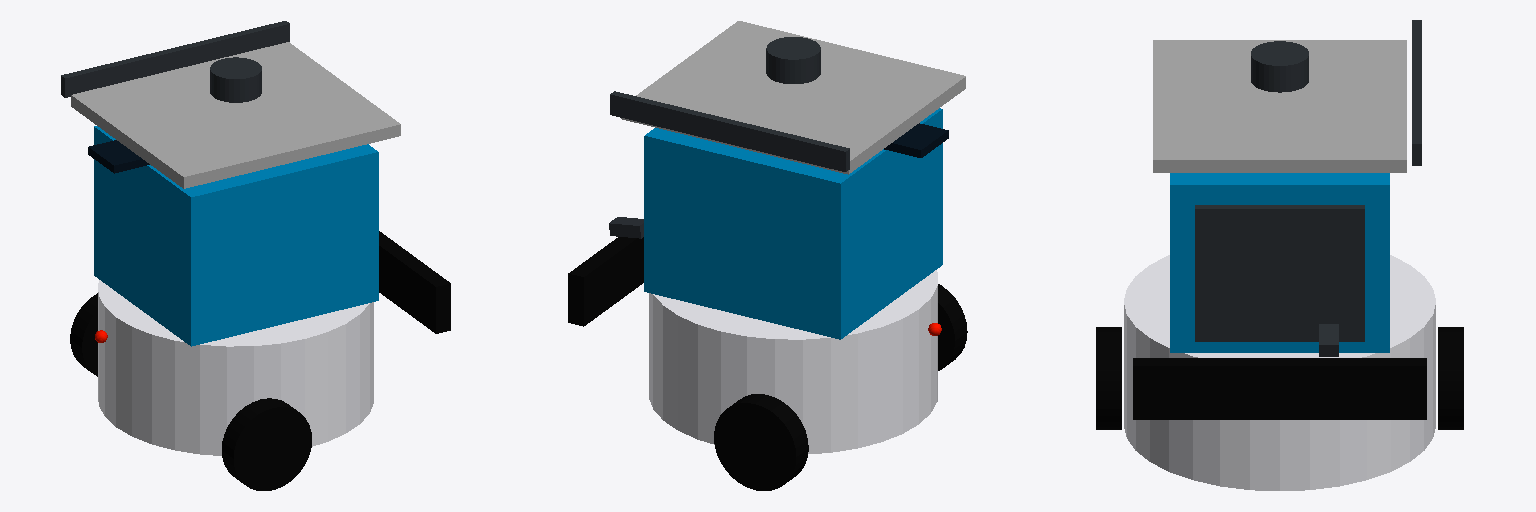
robot.urdf — hospital_logistics_robot:
<?xml version="1.0"?>
<robot name="hospital_logistics_robot">

  <!-- ==================== MATERIALES ==================== -->
  <material name="White">
    <color rgba="0.95 0.95 0.97 1.0"/>
  </material>
  <material name="BlueMedical">
    <color rgba="0.0 0.55 0.77 1.0"/>
  </material>
  <material name="DarkMetal">
    <color rgba="0.2 0.22 0.24 1.0"/>
  </material>
  <material name="BlackRubber">
    <color rgba="0.05 0.05 0.05 1.0"/>
  </material>
  <material name="LightGrey">
    <color rgba="0.7 0.7 0.7 1.0"/>
  </material>
  <material name="Screen">
    <color rgba="0.05 0.1 0.15 1.0"/>
  </material>
  <material name="LED_Green">
    <color rgba="0.0 0.9 0.1 1.0"/>
  </material>
  <material name="LED_Red">
    <color rgba="1.0 0.1 0.0 1.0"/>
  </material>

  <!-- ==================== BASE FOOTPRINT ==================== -->
  <link name="base_footprint"/>

  <!-- ==================== CHASIS PRINCIPAL ==================== -->
  <link name="base_link">
    <visual>
      <geometry>
        <cylinder radius="0.32" length="0.28"/>
      </geometry>
      <origin xyz="0 0 0" rpy="0 0 0"/>
      <material name="White"/>
    </visual>
    <collision>
      <geometry>
        <cylinder radius="0.32" length="0.28"/>
      </geometry>
      <origin xyz="0 0 0" rpy="0 0 0"/>
    </collision>
    <inertial>
      <mass value="20.0"/>
      <origin xyz="0 0 0" rpy="0 0 0"/>
      <inertia ixx="0.8" ixy="0" ixz="0" iyy="0.8" iyz="0" izz="0.8"/>
    </inertial>
  </link>

  <joint name="base_joint" type="fixed">
    <parent link="base_footprint"/>
    <child link="base_link"/>
    <origin xyz="0 0 0.14" rpy="0 0 0"/>
  </joint>

  <!-- ==================== COMPARTIMENTO DE CARGA ==================== -->
  <link name="cargo_box">
    <visual>
      <geometry>
        <box size="0.5 0.45 0.38"/>
      </geometry>
      <origin xyz="0 0 0.33" rpy="0 0 0"/>
      <material name="BlueMedical"/>
    </visual>
    <collision>
      <geometry>
        <box size="0.5 0.45 0.38"/>
      </geometry>
      <origin xyz="0 0 0.33" rpy="0 0 0"/>
    </collision>
    <inertial>
      <mass value="5.0"/>
      <origin xyz="0 0 0.33" rpy="0 0 0"/>
      <inertia ixx="0.2" ixy="0" ixz="0" iyy="0.2" iyz="0" izz="0.2"/>
    </inertial>
  </link>

  <joint name="cargo_joint" type="fixed">
    <parent link="base_link"/>
    <child link="cargo_box"/>
    <origin xyz="0 0 0" rpy="0 0 0"/>
  </joint>

  <!-- Detalle de puerta (línea vertical simulada con una caja fina) -->
  <link name="door_line">
    <visual>
      <geometry>
        <box size="0.02 0.35 0.30"/>
      </geometry>
      <origin xyz="0.27 0 0.33" rpy="0 0 0"/>
      <material name="DarkMetal"/>
    </visual>
  </link>
  <joint name="door_joint" type="fixed">
    <parent link="cargo_box"/>
    <child link="door_line"/>
    <origin xyz="0 0 0" rpy="0 0 0"/>
  </joint>

  <!-- ==================== BANDEJA SUPERIOR (estante) ==================== -->
  <link name="top_shelf">
    <visual>
      <geometry>
        <box size="0.58 0.52 0.03"/>
      </geometry>
      <origin xyz="0 0 0.58" rpy="0 0 0"/>
      <material name="LightGrey"/>
    </visual>
    <collision>
      <geometry>
        <box size="0.58 0.52 0.03"/>
      </geometry>
      <origin xyz="0 0 0.58" rpy="0 0 0"/>
    </collision>
    <inertial>
      <mass value="1.5"/>
      <origin xyz="0 0 0.58" rpy="0 0 0"/>
      <inertia ixx="0.05" ixy="0" ixz="0" iyy="0.05" iyz="0" izz="0.05"/>
    </inertial>
  </link>

  <joint name="shelf_joint" type="fixed">
    <parent link="base_link"/>
    <child link="top_shelf"/>
    <origin xyz="0 0 0" rpy="0 0 0"/>
  </joint>

  <!-- Barandas alrededor de la bandeja -->
  <link name="railing">
    <visual>
      <geometry>
        <box size="0.60 0.02 0.05"/>
      </geometry>
      <origin xyz="0 0.28 0.61" rpy="0 0 0"/>
      <material name="DarkMetal"/>
    </visual>
  </link>
  <joint name="railing_joint" type="fixed">
    <parent link="top_shelf"/>
    <child link="railing"/>
    <origin xyz="0 0 0" rpy="0 0 0"/>
  </joint>

  <!-- ==================== SENSOR LIDAR ==================== -->
  <link name="lidar">
    <visual>
      <geometry>
        <cylinder radius="0.06" length="0.06"/>
      </geometry>
      <origin xyz="0 0 0.67" rpy="0 0 0"/>
      <material name="DarkMetal"/>
    </visual>
    <collision>
      <geometry>
        <cylinder radius="0.06" length="0.06"/>
      </geometry>
      <origin xyz="0 0 0.67" rpy="0 0 0"/>
    </collision>
    <inertial>
      <mass value="0.2"/>
      <origin xyz="0 0 0.67" rpy="0 0 0"/>
      <inertia ixx="0.0001" ixy="0" ixz="0" iyy="0.0001" iyz="0" izz="0.0001"/>
    </inertial>
  </link>
  <joint name="lidar_joint" type="fixed">
    <parent link="base_link"/>
    <child link="lidar"/>
    <origin xyz="0 0 0" rpy="0 0 0"/>
  </joint>

  <!-- ==================== CÁMARA FRONTAL ==================== -->
  <link name="camera_front">
    <visual>
      <geometry>
        <box size="0.08 0.04 0.03"/>
      </geometry>
      <origin xyz="0.36 0.1 0.22" rpy="0 0.15 0"/>
      <material name="DarkMetal"/>
    </visual>
    <collision>
      <geometry>
        <box size="0.08 0.04 0.03"/>
      </geometry>
      <origin xyz="0.36 0.1 0.22" rpy="0 0.15 0"/>
    </collision>
    <inertial>
      <mass value="0.05"/>
      <origin xyz="0.36 0.1 0.22" rpy="0 0.15 0"/>
      <inertia ixx="0.00001" ixy="0" ixz="0" iyy="0.00001" iyz="0" izz="0.00001"/>
    </inertial>
  </link>
  <joint name="camera_joint" type="fixed">
    <parent link="base_link"/>
    <child link="camera_front"/>
    <origin xyz="0 0 0" rpy="0 0 0"/>
  </joint>

  <!-- ==================== PANEL TÁCTIL TRASERO ==================== -->
  <link name="touch_panel">
    <visual>
      <geometry>
        <box size="0.16 0.12 0.02"/>
      </geometry>
      <origin xyz="-0.28 0 0.55" rpy="0 0 0"/>
      <material name="Screen"/>
    </visual>
    <collision>
      <geometry>
        <box size="0.16 0.12 0.02"/>
      </geometry>
      <origin xyz="-0.28 0 0.55" rpy="0 0 0"/>
    </collision>
    <inertial>
      <mass value="0.2"/>
      <origin xyz="-0.28 0 0.55" rpy="0 0 0"/>
      <inertia ixx="0.0001" ixy="0" ixz="0" iyy="0.0001" iyz="0" izz="0.0001"/>
    </inertial>
  </link>
  <joint name="panel_joint" type="fixed">
    <parent link="base_link"/>
    <child link="touch_panel"/>
    <origin xyz="0 0 0" rpy="0 0 0"/>
  </joint>

  <!-- ==================== LEDS DE ESTADO ==================== -->
  <!-- LED frontal verde -->
  <link name="led_front">
    <visual>
      <geometry>
        <sphere radius="0.015"/>
      </geometry>
      <origin xyz="0.36 0 0.1" rpy="0 0 0"/>
      <material name="LED_Green"/>
    </visual>
  </link>
  <joint name="led_front_joint" type="fixed">
    <parent link="base_link"/>
    <child link="led_front"/>
    <origin xyz="0 0 0" rpy="0 0 0"/>
  </joint>

  <!-- LED trasero rojo -->
  <link name="led_rear">
    <visual>
      <geometry>
        <sphere radius="0.015"/>
      </geometry>
      <origin xyz="-0.36 0 0.1" rpy="0 0 0"/>
      <material name="LED_Red"/>
    </visual>
  </link>
  <joint name="led_rear_joint" type="fixed">
    <parent link="base_link"/>
    <child link="led_rear"/>
    <origin xyz="0 0 0" rpy="0 0 0"/>
  </joint>

  <!-- ==================== RUEDAS (orientación corregida) ==================== -->
  <!-- Rueda derecha -->
  <link name="wheel_right">
    <visual>
      <geometry>
        <cylinder radius="0.105" length="0.055"/>
      </geometry>
      <!-- Rotación para que el cilindro gire sobre el eje Y (rueda en horizontal) -->
      <origin xyz="0 0 0" rpy="1.5708 0 0"/>
      <material name="BlackRubber"/>
    </visual>
    <collision>
      <geometry>
        <cylinder radius="0.105" length="0.055"/>
      </geometry>
      <origin xyz="0 0 0" rpy="1.5708 0 0"/>
    </collision>
    <inertial>
      <mass value="1.5"/>
      <origin xyz="0 0 0" rpy="0 0 0"/>
      <inertia ixx="0.01" ixy="0" ixz="0" iyy="0.01" iyz="0" izz="0.02"/>
    </inertial>
  </link>

  <joint name="wheel_right_joint" type="continuous">
    <parent link="base_link"/>
    <child link="wheel_right"/>
    <origin xyz="-0.12 -0.35 -0.09" rpy="0 0 0"/>
    <axis xyz="0 1 0"/>
  </joint>

  <!-- Rueda izquierda -->
  <link name="wheel_left">
    <visual>
      <geometry>
        <cylinder radius="0.105" length="0.055"/>
      </geometry>
      <origin xyz="0 0 0" rpy="1.5708 0 0"/>
      <material name="BlackRubber"/>
    </visual>
    <collision>
      <geometry>
        <cylinder radius="0.105" length="0.055"/>
      </geometry>
      <origin xyz="0 0 0" rpy="1.5708 0 0"/>
    </collision>
    <inertial>
      <mass value="1.5"/>
      <origin xyz="0 0 0" rpy="0 0 0"/>
      <inertia ixx="0.01" ixy="0" ixz="0" iyy="0.01" iyz="0" izz="0.02"/>
    </inertial>
  </link>

  <joint name="wheel_left_joint" type="continuous">
    <parent link="base_link"/>
    <child link="wheel_left"/>
    <origin xyz="-0.12 0.35 -0.09" rpy="0 0 0"/>
    <axis xyz="0 1 0"/>
  </joint>

  <!-- ==================== RUEDAS LOCAS (CASTERS) ==================== -->
  <!-- Caster delantero -->
  <link name="caster_front">
    <visual>
      <geometry>
        <sphere radius="0.035"/>
      </geometry>
      <origin xyz="0 0 -0.1" rpy="0 0 0"/>
      <material name="LightGrey"/>
    </visual>
    <collision>
      <geometry>
        <sphere radius="0.035"/>
      </geometry>
      <origin xyz="0 0 -0.1" rpy="0 0 0"/>
    </collision>
    <inertial>
      <mass value="0.3"/>
      <origin xyz="0 0 -0.1" rpy="0 0 0"/>
      <inertia ixx="0.0001" ixy="0" ixz="0" iyy="0.0001" iyz="0" izz="0.0001"/>
    </inertial>
  </link>
  <joint name="caster_front_joint" type="fixed">
    <parent link="base_link"/>
    <child link="caster_front"/>
    <origin xyz="0.28 0 0" rpy="0 0 0"/>
  </joint>

  <!-- Caster trasero -->
  <link name="caster_rear">
    <visual>
      <geometry>
        <sphere radius="0.035"/>
      </geometry>
      <origin xyz="0 0 -0.1" rpy="0 0 0"/>
      <material name="LightGrey"/>
    </visual>
    <collision>
      <geometry>
        <sphere radius="0.035"/>
      </geometry>
      <origin xyz="0 0 -0.1" rpy="0 0 0"/>
    </collision>
    <inertial>
      <mass value="0.3"/>
      <origin xyz="0 0 -0.1" rpy="0 0 0"/>
      <inertia ixx="0.0001" ixy="0" ixz="0" iyy="0.0001" iyz="0" izz="0.0001"/>
    </inertial>
  </link>
  <joint name="caster_rear_joint" type="fixed">
    <parent link="base_link"/>
    <child link="caster_rear"/>
    <origin xyz="-0.28 0 0" rpy="0 0 0"/>
  </joint>

  <!-- ==================== PARACHOQUES (Bumper) ==================== -->
  <link name="bumper_front">
    <visual>
      <geometry>
        <box size="0.04 0.6 0.12"/>
      </geometry>
      <origin xyz="0.38 0 0.12" rpy="0 0 0"/>
      <material name="BlackRubber"/>
    </visual>
  </link>
  <joint name="bumper_front_joint" type="fixed">
    <parent link="base_link"/>
    <child link="bumper_front"/>
    <origin xyz="0 0 0" rpy="0 0 0"/>
  </joint>

  <!-- ==================== GAZEBO EXTENSIONS ==================== -->
  <gazebo reference="base_link">
    <material>Gazebo/White</material>
    <self_collide>false</self_collide>
    <turnGravityOff>false</turnGravityOff>
  </gazebo>

  <gazebo reference="wheel_left">
    <mu1>1.0</mu1>
    <mu2>1.0</mu2>
    <kp>1000000.0</kp>
    <kd>100.0</kd>
    <minDepth>0.001</minDepth>
  </gazebo>

  <gazebo reference="wheel_right">
    <mu1>1.0</mu1>
    <mu2>1.0</mu2>
    <kp>1000000.0</kp>
    <kd>100.0</kd>
    <minDepth>0.001</minDepth>
  </gazebo>

  <!-- Plugin de control diferencial (Gazebo-ROS) -->
  <gazebo>
    <plugin name="diff_drive" filename="libgazebo_ros_diff_drive.so">
      <ros>
        <namespace>/hospital_bot</namespace>
      </ros>
      <updateRate>50</updateRate>
      <leftJoint>wheel_left_joint</leftJoint>
      <rightJoint>wheel_right_joint</rightJoint>
      <wheelSeparation>0.70</wheelSeparation>
      <wheelDiameter>0.21</wheelDiameter>
      <torque>20.0</torque>
      <commandTopic>cmd_vel</commandTopic>
      <odometryTopic>odom</odometryTopic>
      <odometryFrame>odom</odometryFrame>
      <robotBaseFrame>base_footprint</robotBaseFrame>
    </plugin>
  </gazebo>

  <!-- Simulación básica del LiDAR en Gazebo -->
  <gazebo reference="lidar">
    <sensor type="ray" name="lidar_sensor">
      <pose>0 0 0 0 0 0</pose>
      <visualize>true</visualize>
      <update_rate>40</update_rate>
      <ray>
        <scan>
          <horizontal>
            <samples>360</samples>
            <resolution>1</resolution>
            <min_angle>-3.14159</min_angle>
            <max_angle>3.14159</max_angle>
          </horizontal>
        </scan>
        <range>
          <min>0.1</min>
          <max>10.0</max>
          <resolution>0.01</resolution>
        </range>
      </ray>
      <plugin name="gazebo_ros_laser" filename="libgazebo_ros_laser.so">
        <topicName>/scan</topicName>
        <frameName>lidar</frameName>
      </plugin>
    </sensor>
  </gazebo>

</robot>

--- Render facts (derived) ---
Views: 3 orthographic renders of the robot side by side, from view 1: azimuth 30°, elevation 25°; view 2: azimuth 150°, elevation 25°; view 3: azimuth 270°, elevation 25°.
Model hospital_logistics_robot with 16 links and 15 joints (2 continuous, 13 fixed), rooted at base_footprint, posed all joints at 0.
Links seen in each view (by area): view 1: cargo_box, base_link, top_shelf, wheel_right, railing, bumper_front, lidar, wheel_left, touch_panel; view 2: cargo_box, base_link, top_shelf, wheel_left, railing, bumper_front, lidar, wheel_right, touch_panel, camera_front; view 3: top_shelf, base_link, door_line, bumper_front, cargo_box, lidar, wheel_right, wheel_left, railing, camera_front.
Link boxes in pixels (x1=…): cargo_box: x1=94, y1=126, x2=378, y2=346; base_link: x1=98, y1=280, x2=373, y2=455; top_shelf: x1=71, y1=42, x2=400, y2=188; wheel_right: x1=222, y1=398, x2=311, y2=490; railing: x1=61, y1=21, x2=289, y2=97; bumper_front: x1=379, y1=231, x2=450, y2=333; lidar: x1=210, y1=57, x2=261, y2=102; wheel_left: x1=70, y1=293, x2=97, y2=376; touch_panel: x1=88, y1=140, x2=149, y2=173; cargo_box: x1=644, y1=108, x2=942, y2=339; base_link: x1=649, y1=270, x2=937, y2=453; top_shelf: x1=621, y1=21, x2=965, y2=174; wheel_left: x1=714, y1=394, x2=808, y2=490; railing: x1=610, y1=91, x2=849, y2=171; bumper_front: x1=568, y1=237, x2=643, y2=326; lidar: x1=766, y1=37, x2=820, y2=83; wheel_right: x1=938, y1=284, x2=967, y2=370; touch_panel: x1=884, y1=123, x2=948, y2=157; camera_front: x1=609, y1=217, x2=643, y2=238; top_shelf: x1=1153, y1=40, x2=1406, y2=172; base_link: x1=1124, y1=255, x2=1435, y2=490; door_line: x1=1195, y1=205, x2=1364, y2=341; bumper_front: x1=1133, y1=358, x2=1426, y2=419; cargo_box: x1=1170, y1=173, x2=1389, y2=352; lidar: x1=1251, y1=41, x2=1308, y2=92; wheel_right: x1=1096, y1=327, x2=1121, y2=429; wheel_left: x1=1438, y1=327, x2=1463, y2=429; railing: x1=1412, y1=20, x2=1421, y2=165; camera_front: x1=1319, y1=324, x2=1338, y2=356.
Bounding box of the posed robot: 0.7768 × 0.755 × 0.895 m (x, y, z).
Geometry: primitives only (box / cylinder / sphere), no mesh files.
